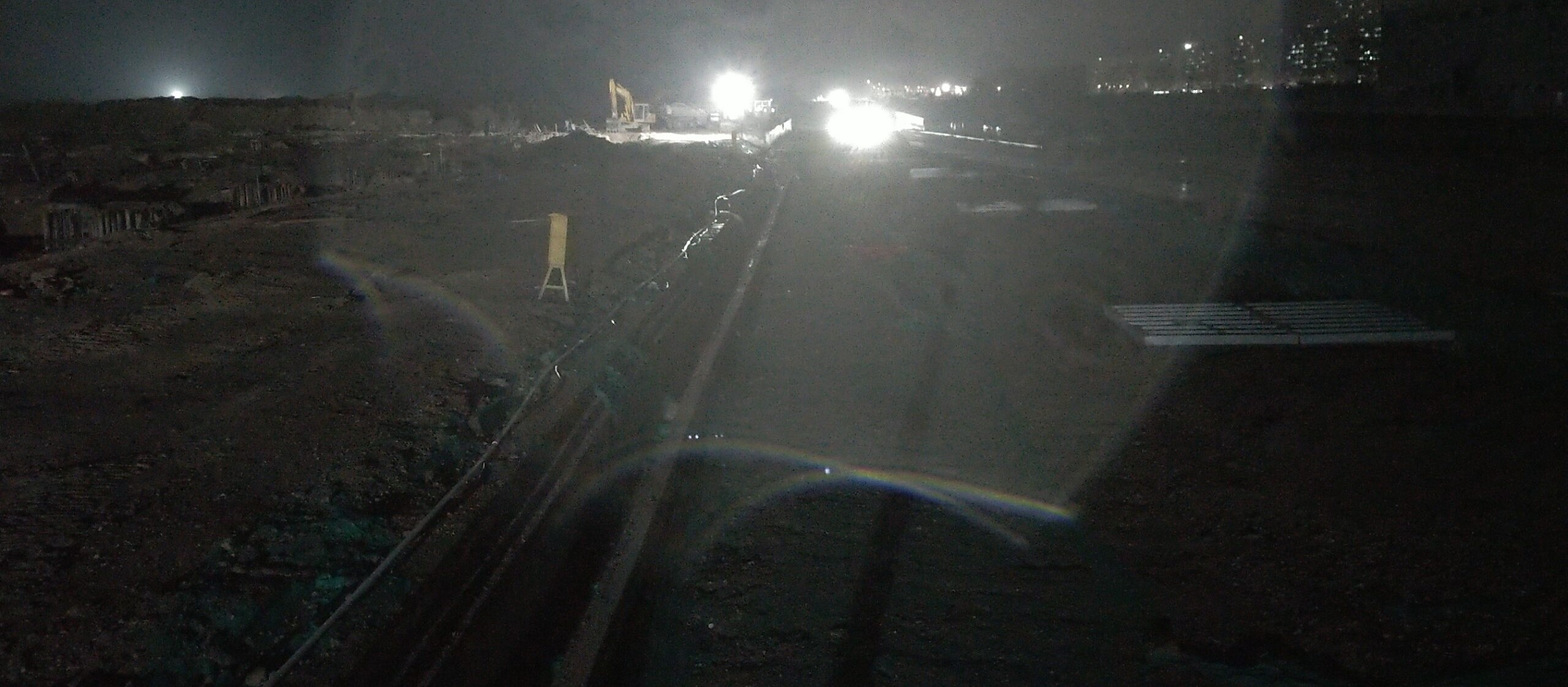过爆灯光: (812, 88, 923, 149), (709, 70, 755, 122), (640, 131, 732, 144), (954, 84, 966, 96), (170, 89, 183, 99), (930, 86, 941, 96), (941, 83, 950, 92)
